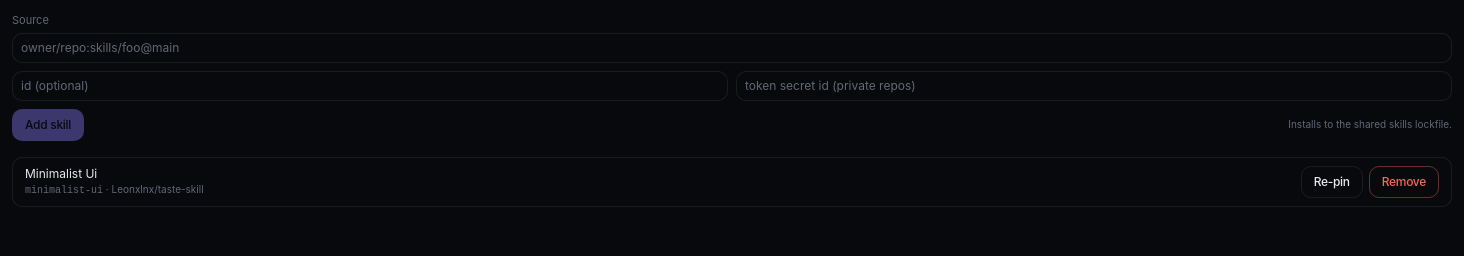
Test: SkillRegistry (SKILL-INSTALL UI) › shows an error when the install fails
Expected: the text "Minimalist Ui" is shown, [25,166,97,180]
Type "bad" into the field named "Skill source". click: point(732, 48)
box: [12,32,1452,62]
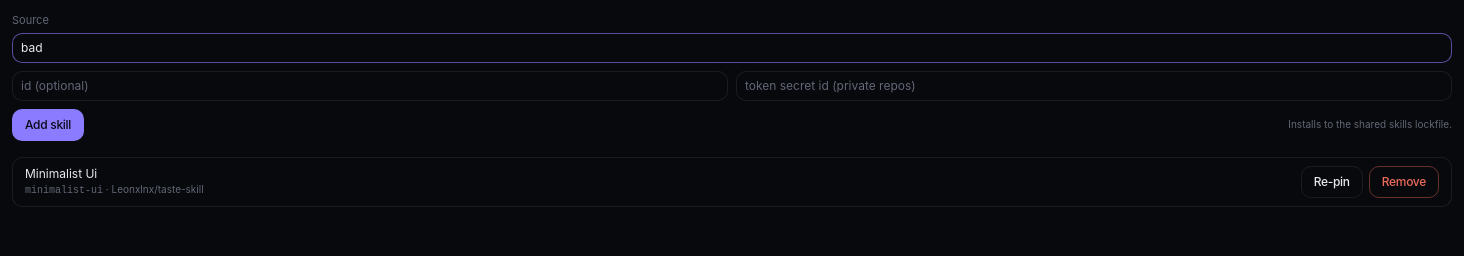
Click the button "Add skill". click: point(48, 124)
box: [12,108,84,140]
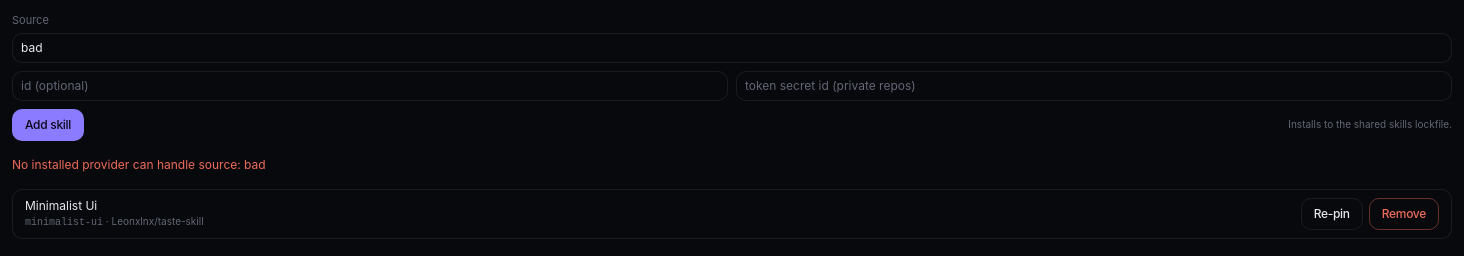
Expected: the message shows "No installed provider", [12,156,266,172]
